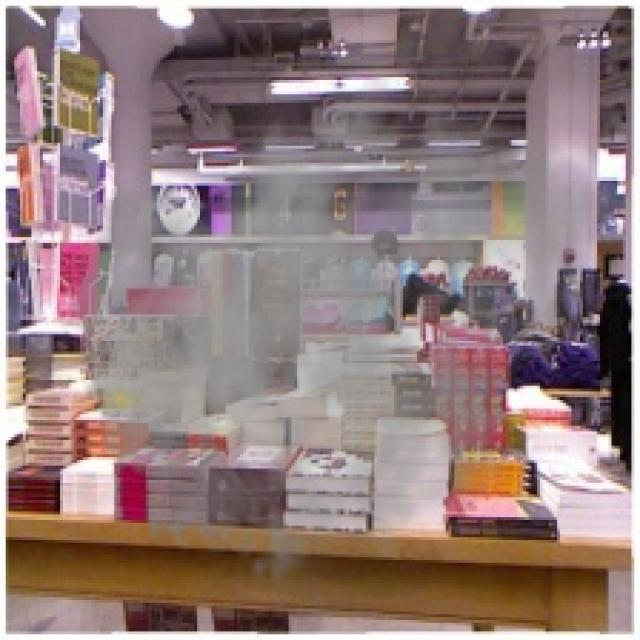smoke: (60, 40, 603, 606)
